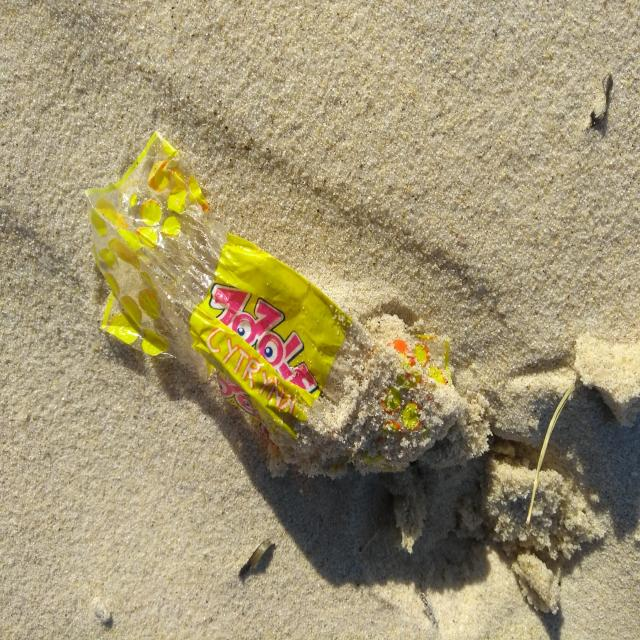litter: (83, 133, 513, 548)
